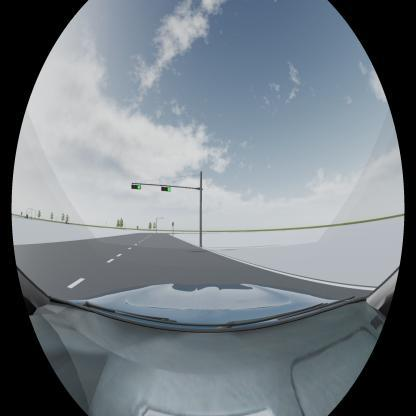Green Light: (161, 186, 171, 193), (131, 184, 141, 190)
